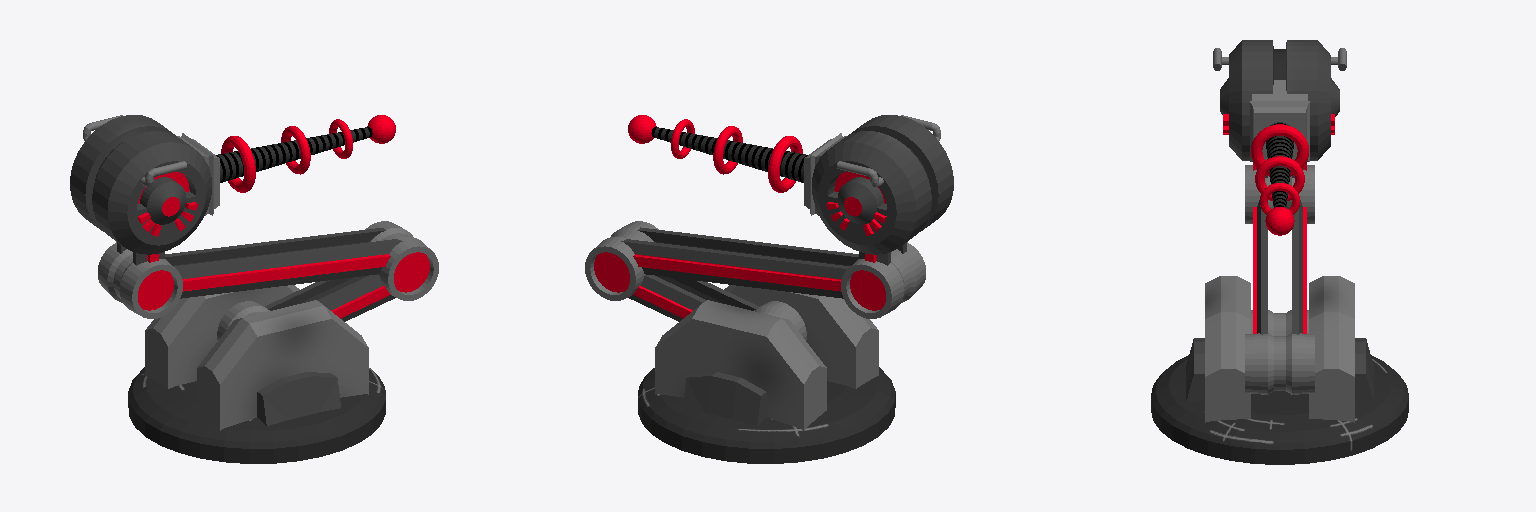
3 renders of one model, left to right at view 1: azimuth 30°, elevation 25°; view 2: azimuth 150°, elevation 25°; view 3: azimuth 270°, elevation 25°, orthographic.
Visible parts, largest first — view 1: Cylinder.005_Cylinder.008; view 2: Cylinder.005_Cylinder.008; view 3: Cylinder.005_Cylinder.008.
Part boxes in pixels (x1,y1,x2,y2): Cylinder.005_Cylinder.008: (70, 115, 438, 463); Cylinder.005_Cylinder.008: (585, 115, 953, 463); Cylinder.005_Cylinder.008: (1151, 40, 1408, 464).
Size of the model in its own units: 8.05 by 7.09 by 5.38.
Materials: 1 (1 with a texture image).